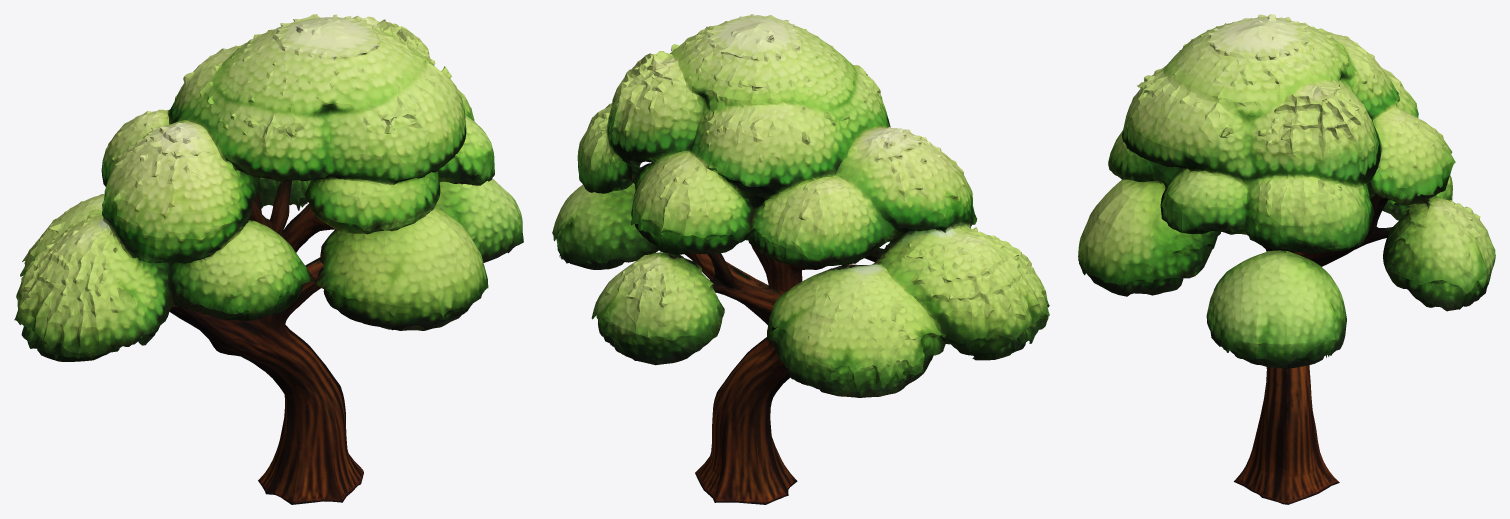
File: asset.glb
3 views of the same model, side by side, from view 1: azimuth 30°, elevation 25°; view 2: azimuth 150°, elevation 25°; view 3: azimuth 270°, elevation 25° (orthographic). The views are drawn at different scales.
Parts seen in each view (by area): view 1: world; view 2: world; view 3: world.
Boxes of the visible parts, x1,y1,x2,y2 form: world: [14, 14, 523, 504]; world: [552, 14, 1049, 504]; world: [1078, 14, 1495, 504].
Size of the model in its own units: 0.9994 by 0.9183 by 0.7604.
1 material, 1 textured.
